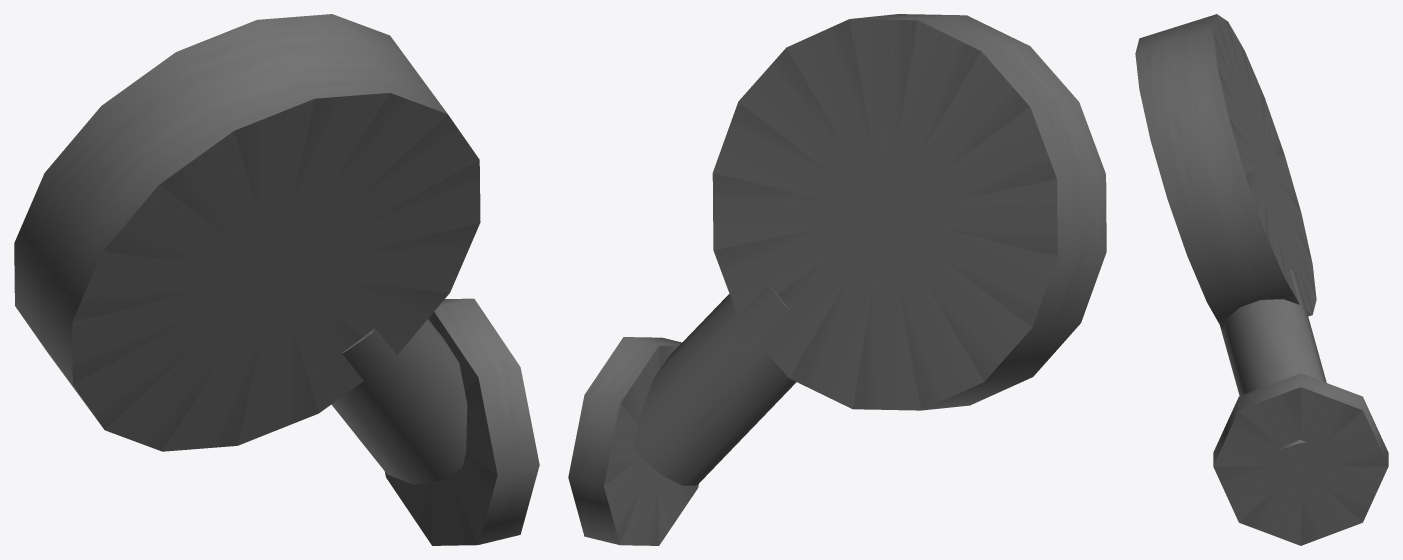
Rendered from mastarmcurve_10x2_c1_east.obj.
3 renders of one model, left to right at view 1: azimuth 30°, elevation 25°; view 2: azimuth 150°, elevation 25°; view 3: azimuth 270°, elevation 25°, orthographic. The views are drawn at different scales.
Visible parts, largest first — view 1: mastarm_10x2_c1_east; view 2: mastarm_10x2_c1_east; view 3: mastarm_10x2_c1_east.
Boxes of the visible parts, x1,y1,x2,y2 form: mastarm_10x2_c1_east: [14, 14, 539, 545]; mastarm_10x2_c1_east: [568, 14, 1106, 545]; mastarm_10x2_c1_east: [1135, 14, 1388, 545].
Bounding box in the file's own units: 0.8647 × 1.07 × 0.5776.
